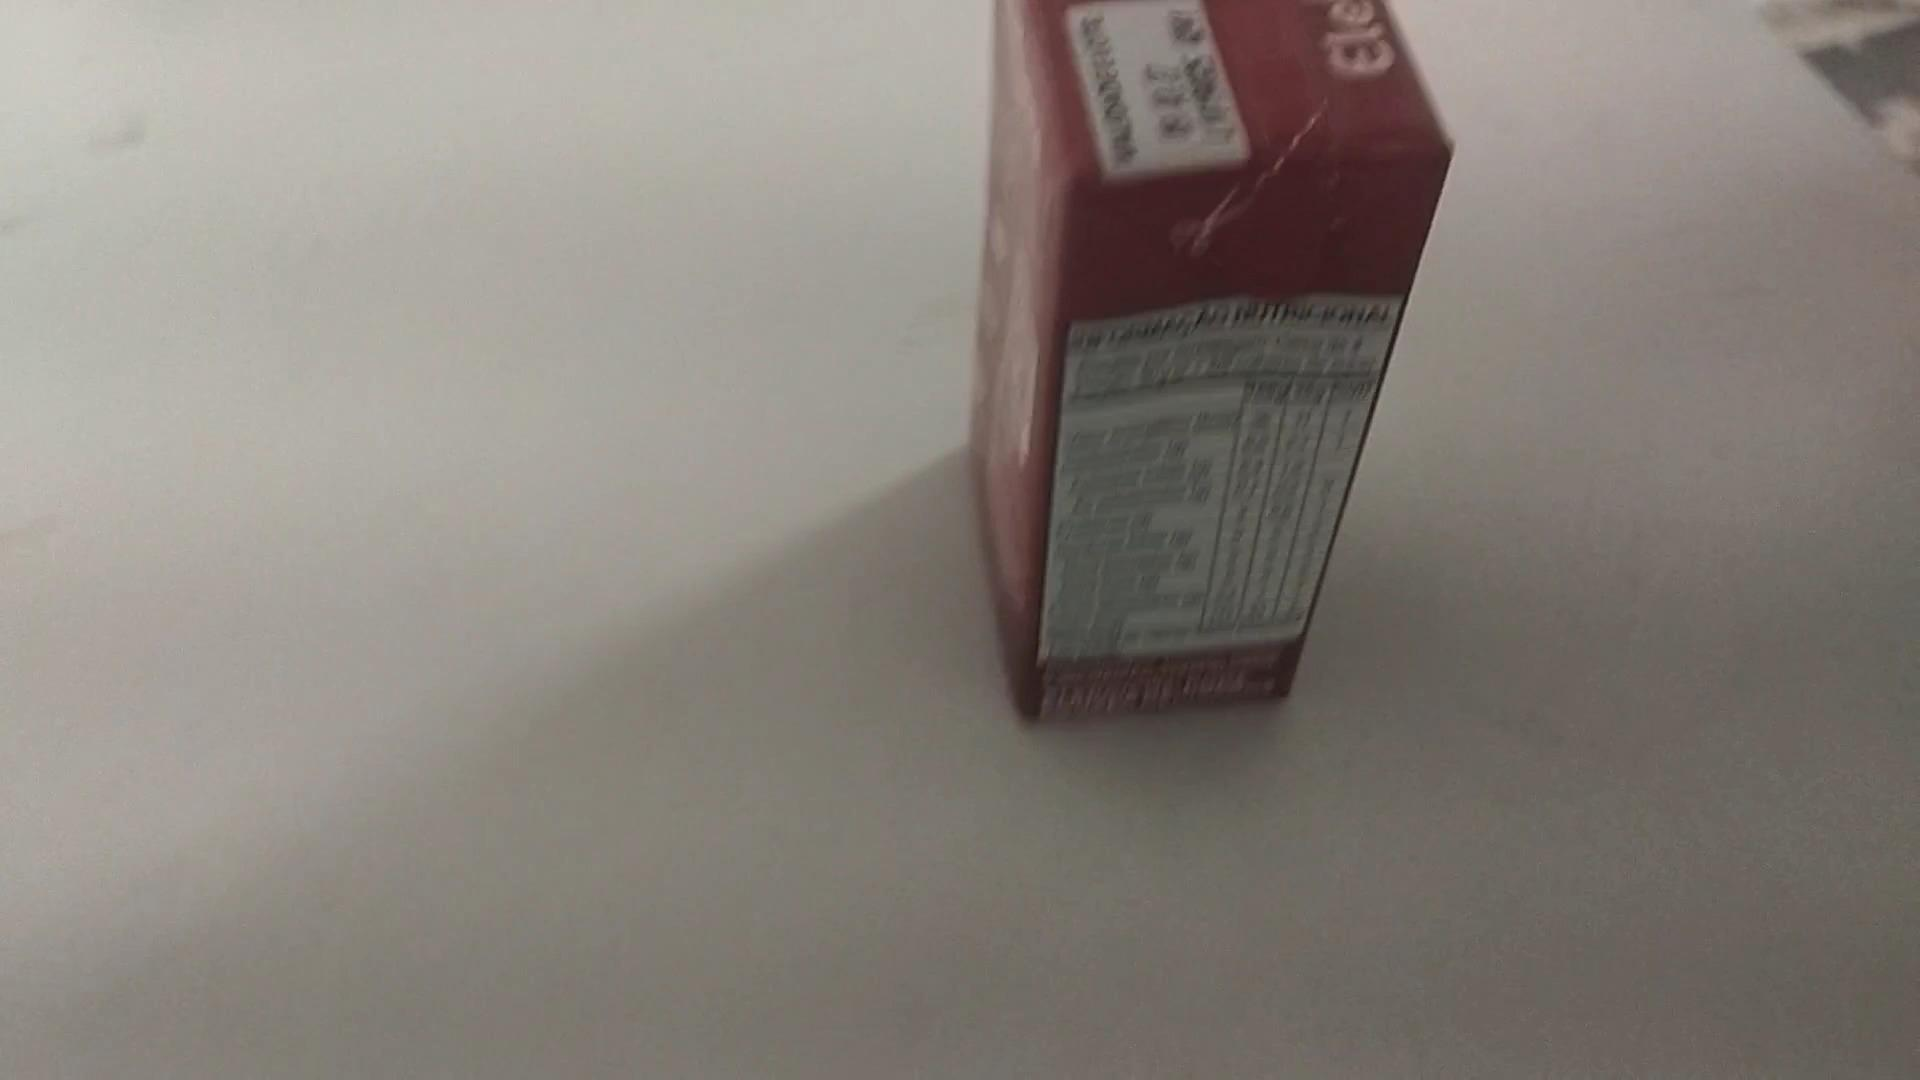tomate: (942, 0, 1458, 742)
